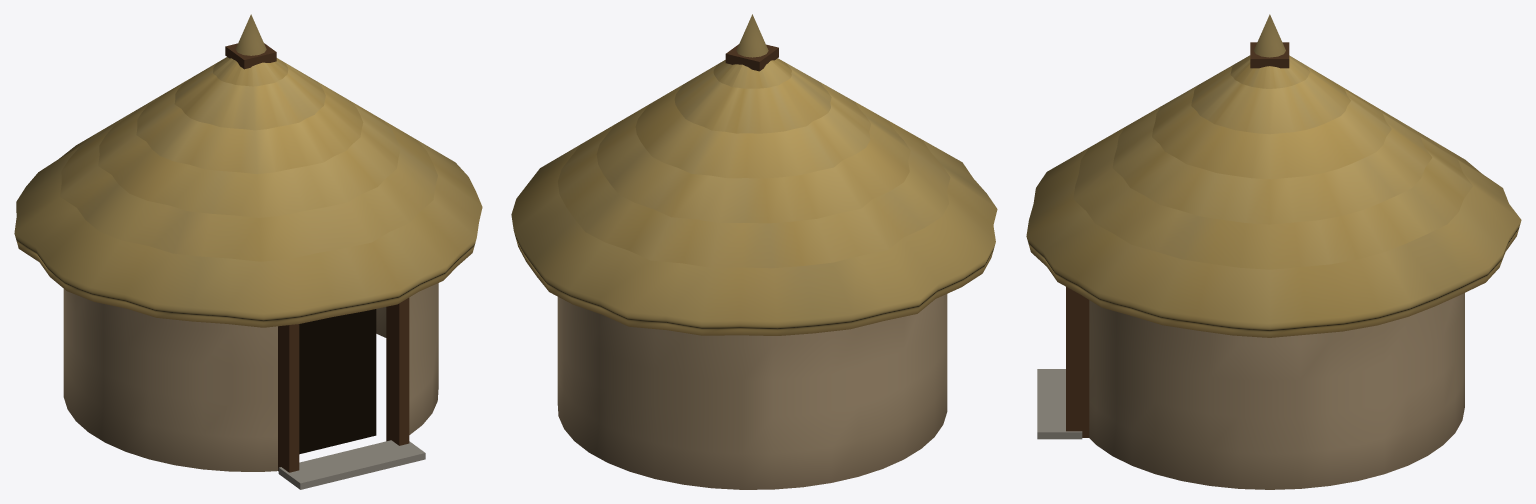
The model's file is roundhouse-wattle-3.glb.
3 views of the same model, side by side, from view 1: azimuth 30°, elevation 25°; view 2: azimuth 150°, elevation 25°; view 3: azimuth 270°, elevation 25° (orthographic). The views are drawn at different scales.
Parts seen in each view (by area): view 1: roundhouse-wattle-3; view 2: roundhouse-wattle-3; view 3: roundhouse-wattle-3.
Part boxes in pixels (box(x1,y1,x2,y2)): roundhouse-wattle-3: box(14, 14, 482, 489); roundhouse-wattle-3: box(511, 14, 997, 489); roundhouse-wattle-3: box(1026, 14, 1521, 489).
Size of the model in its own units: 3.29 by 2.89 by 3.3.
